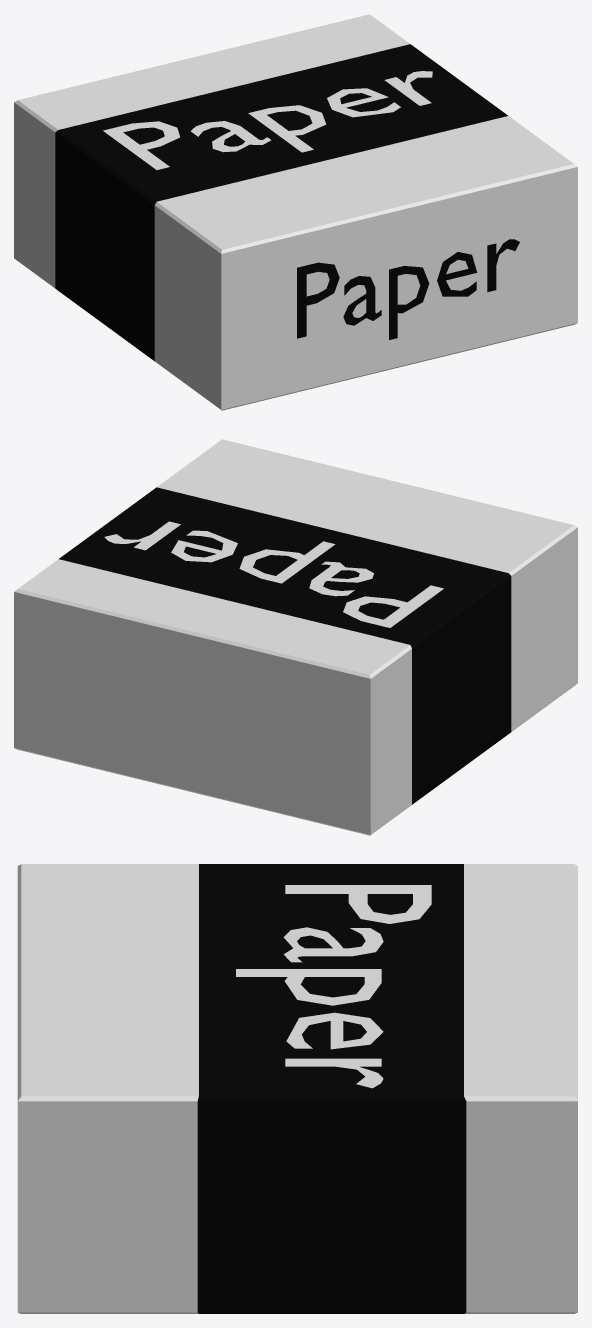
File: Ma_Napkin_2.fbx
The picture shows the model from 3 angles, top to bottom: view 1: azimuth 30°, elevation 25°; view 2: azimuth 150°, elevation 25°; view 3: azimuth 270°, elevation 25°; orthographic projection. The views are drawn at different scales.
Parts seen in each view (by area): view 1: Ma_Napkin_2; view 2: Ma_Napkin_2; view 3: Ma_Napkin_2.
Part boxes in pixels (<box>): Ma_Napkin_2: <box>14,14,577,410</box>; Ma_Napkin_2: <box>14,439,577,835</box>; Ma_Napkin_2: <box>17,864,577,1313</box>.
Bounding box in the file's own units: 142 × 144 × 61.62.
